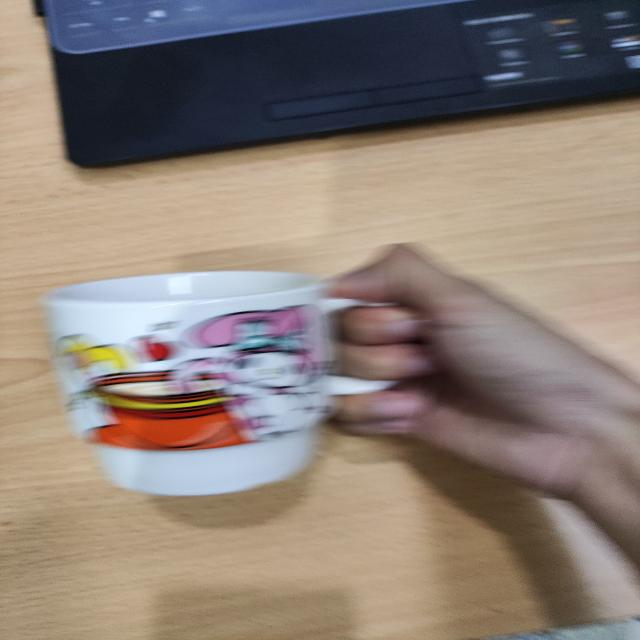cup: (39, 266, 407, 507)
